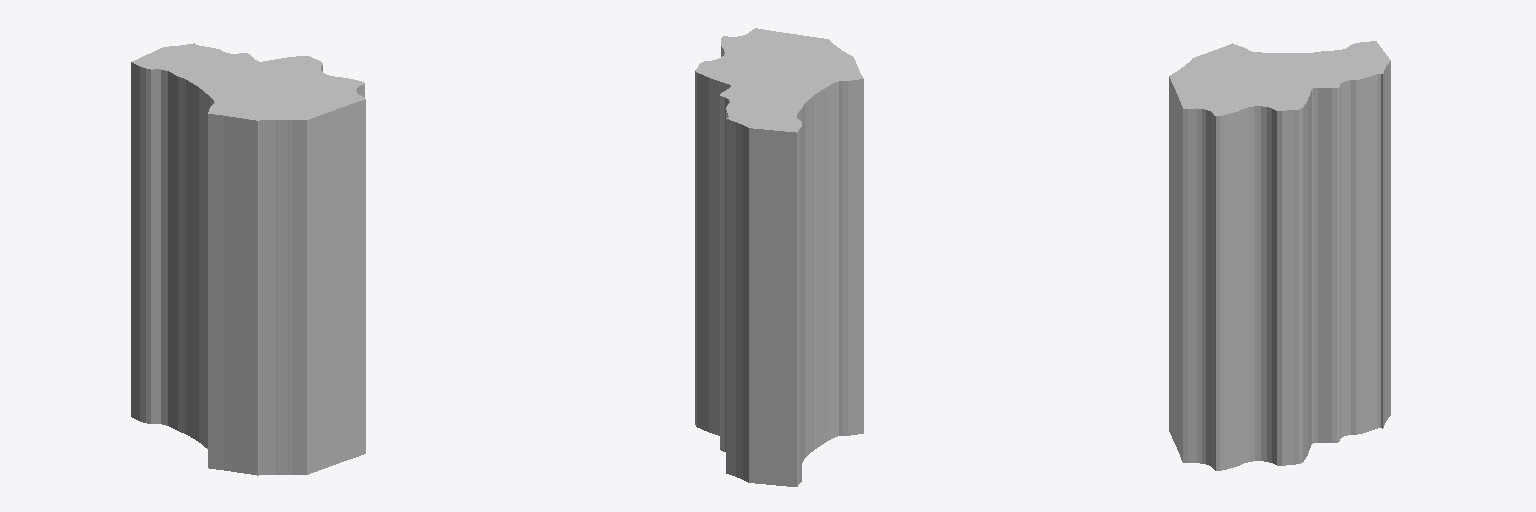
3 views of the same model, side by side, from view 1: azimuth 30°, elevation 25°; view 2: azimuth 150°, elevation 25°; view 3: azimuth 270°, elevation 25° (orthographic).
Visible parts, largest first — view 1: RS.002_CUCurve.1712; view 2: RS.002_CUCurve.1712; view 3: RS.002_CUCurve.1712.
Boxes of the visible parts, x1=… form: RS.002_CUCurve.1712: x1=131, y1=43, x2=365, y2=475; RS.002_CUCurve.1712: x1=695, y1=28, x2=863, y2=486; RS.002_CUCurve.1712: x1=1169, y1=41, x2=1390, y2=470.
Bounding box in the file's own units: 0.0227 × 0.05 × 0.0284.